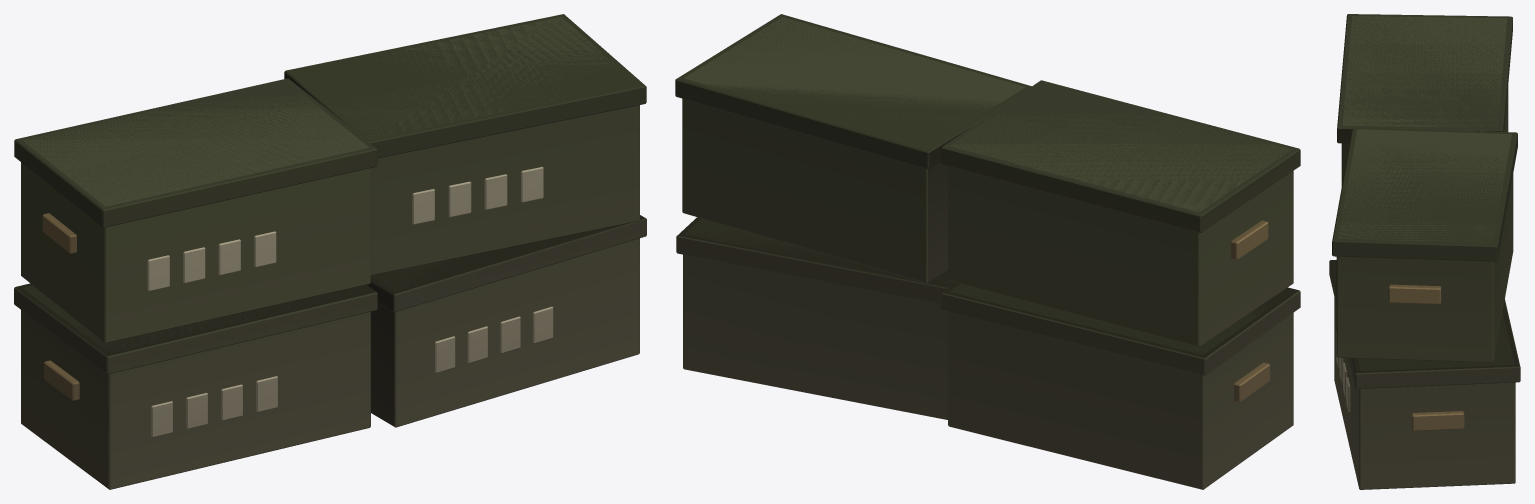
File: ammo.glb
3 renders of one model, left to right at view 1: azimuth 30°, elevation 25°; view 2: azimuth 150°, elevation 25°; view 3: azimuth 270°, elevation 25°, orthographic. The views are drawn at different scales.
Visible parts, largest first — view 1: wood-001; view 2: wood-001; view 3: wood-001.
Boxes of the visible parts, x1,y1,x2,y2 form: wood-001: (14, 14, 646, 489); wood-001: (675, 14, 1300, 489); wood-001: (1329, 14, 1520, 489).
Size of the model in its own units: 1.26 by 0.62 by 0.4374.
